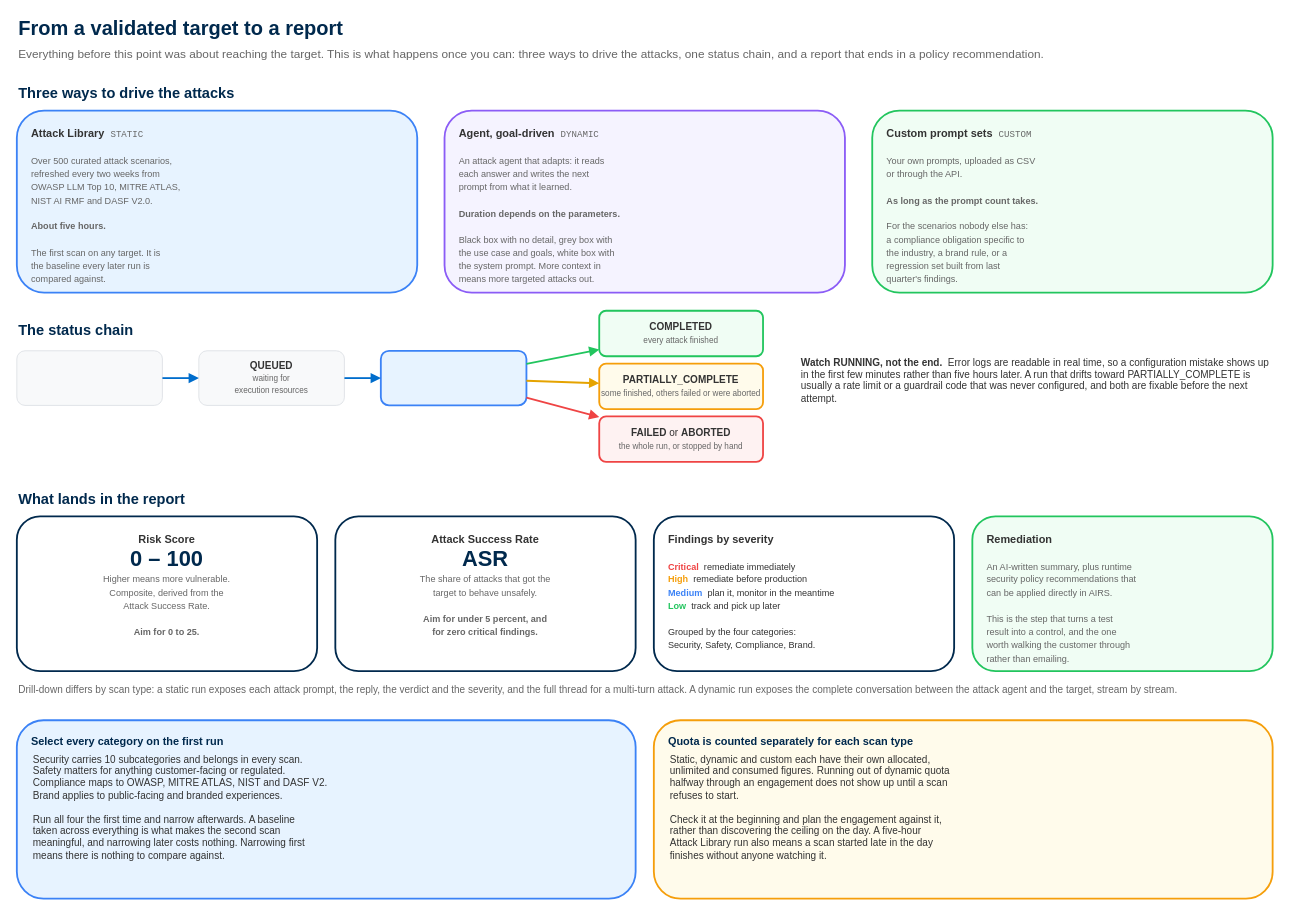
This 1289x915 diagram has some shape labels left out. Each missing label, with the centre of its shape:
INIT created, not started: (x=89, y=377)
RUNNING attacks firing; the error log is live: (x=453, y=377)
